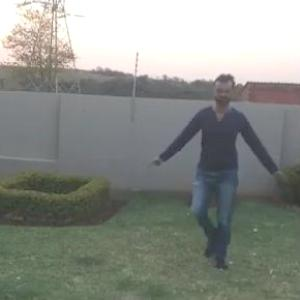land: (169, 82, 273, 235)
